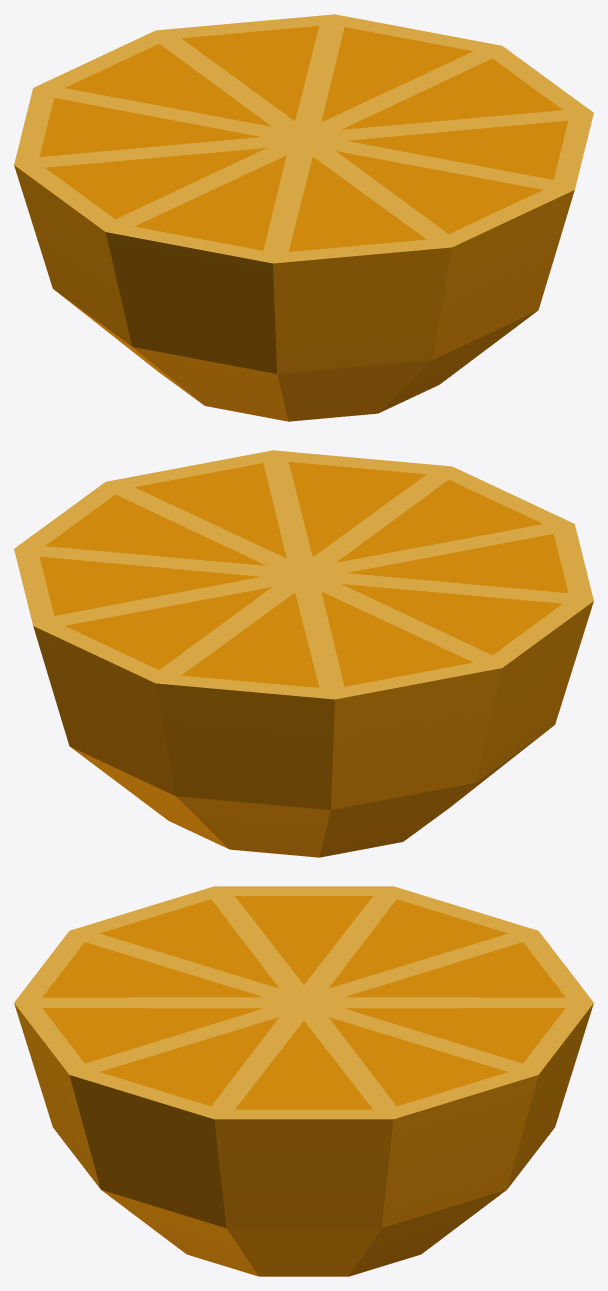
The model's file is orange_1b.fbx.
3 renders of one model, top to bottom at view 1: azimuth 30°, elevation 25°; view 2: azimuth 150°, elevation 25°; view 3: azimuth 270°, elevation 25°, orthographic. The views are drawn at different scales.
Visible parts, largest first — view 1: orange_1b; view 2: orange_1b; view 3: orange_1b.
Part boxes in pixels (left/top/right/bottom): orange_1b: left=14, top=14, right=593, bottom=421; orange_1b: left=14, top=450, right=593, bottom=857; orange_1b: left=14, top=886, right=593, bottom=1276.
Size of the model in its own units: 0.0916 by 0.0395 by 0.0963.
